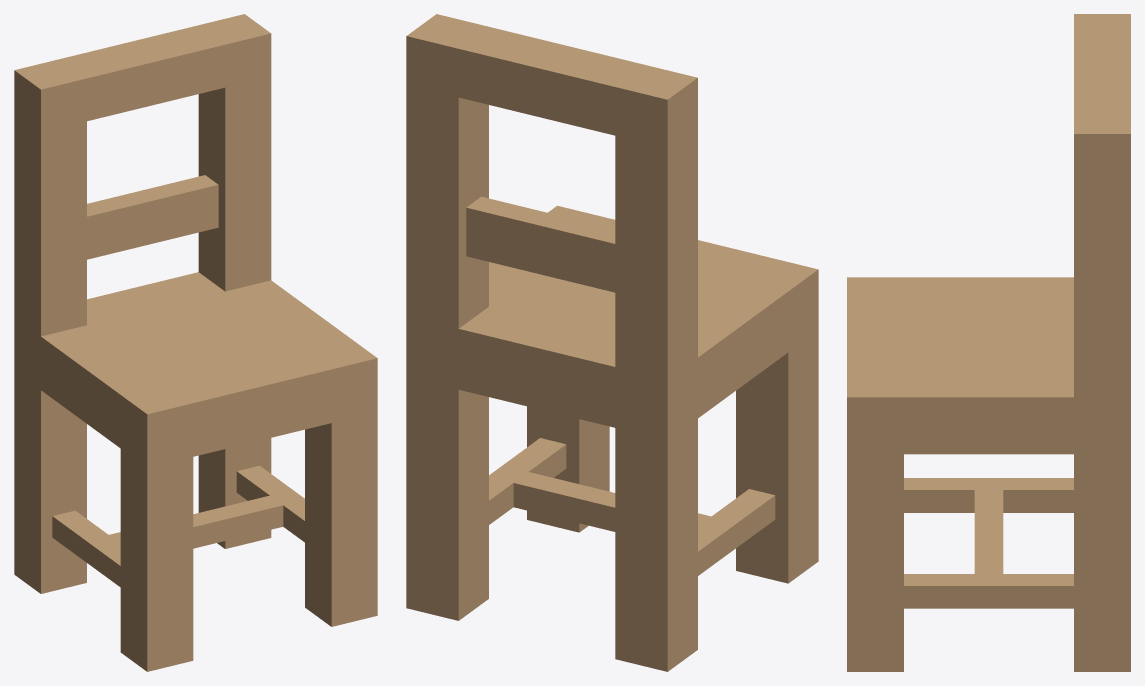
The model's file is chair-dining.glb.
The picture shows the model from 3 angles, left to right: view 1: azimuth 30°, elevation 25°; view 2: azimuth 150°, elevation 25°; view 3: azimuth 270°, elevation 25°; orthographic projection. The views are drawn at different scales.
Parts seen in each view (by area): view 1: chair-dining; view 2: chair-dining; view 3: chair-dining.
Part boxes in pixels (box(x1,y1,x2,y2)): chair-dining: box(14, 14, 377, 671); chair-dining: box(406, 14, 818, 671); chair-dining: box(847, 14, 1130, 671).
Size of the model in its own units: 0.43 by 0.9 by 0.43.
